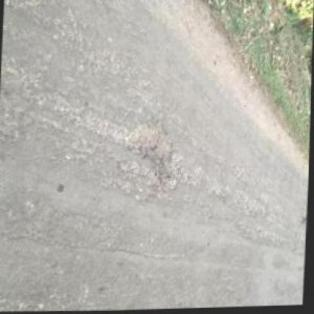Hueco: (124, 121, 175, 170)
